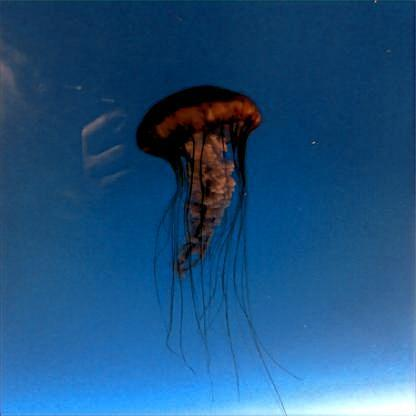Dressed: (136, 88, 262, 288)
